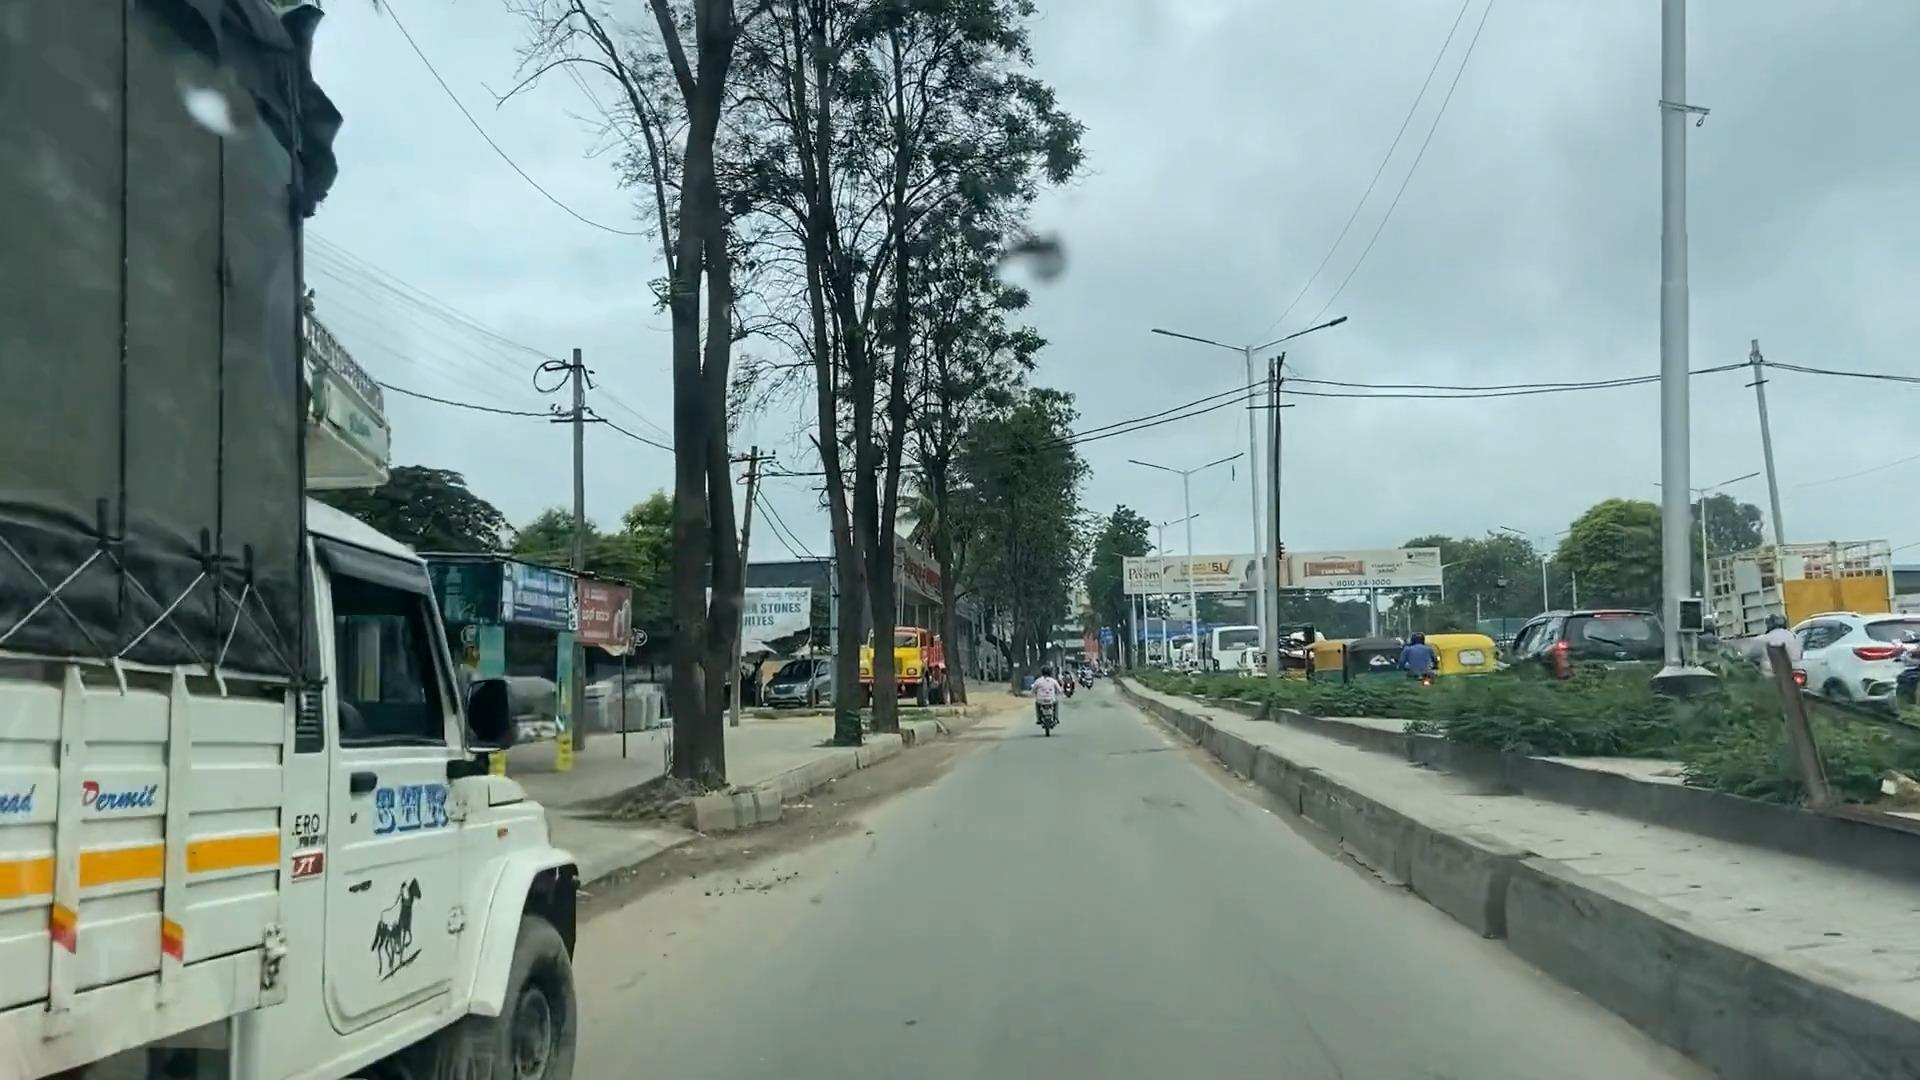HMV: (0, 533, 576, 1080)
